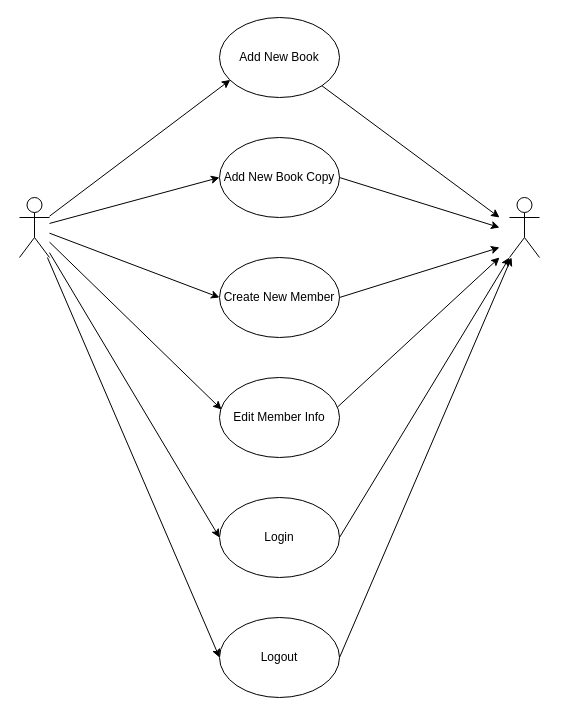
Some shapes in this 581 by 715 pixel diagram are drawn without their labels. The box of each missing label's shape, as (x1, y1, x2, y2) in pixels:
Admin: (18, 196, 50, 258)
Library System: (508, 196, 540, 258)
